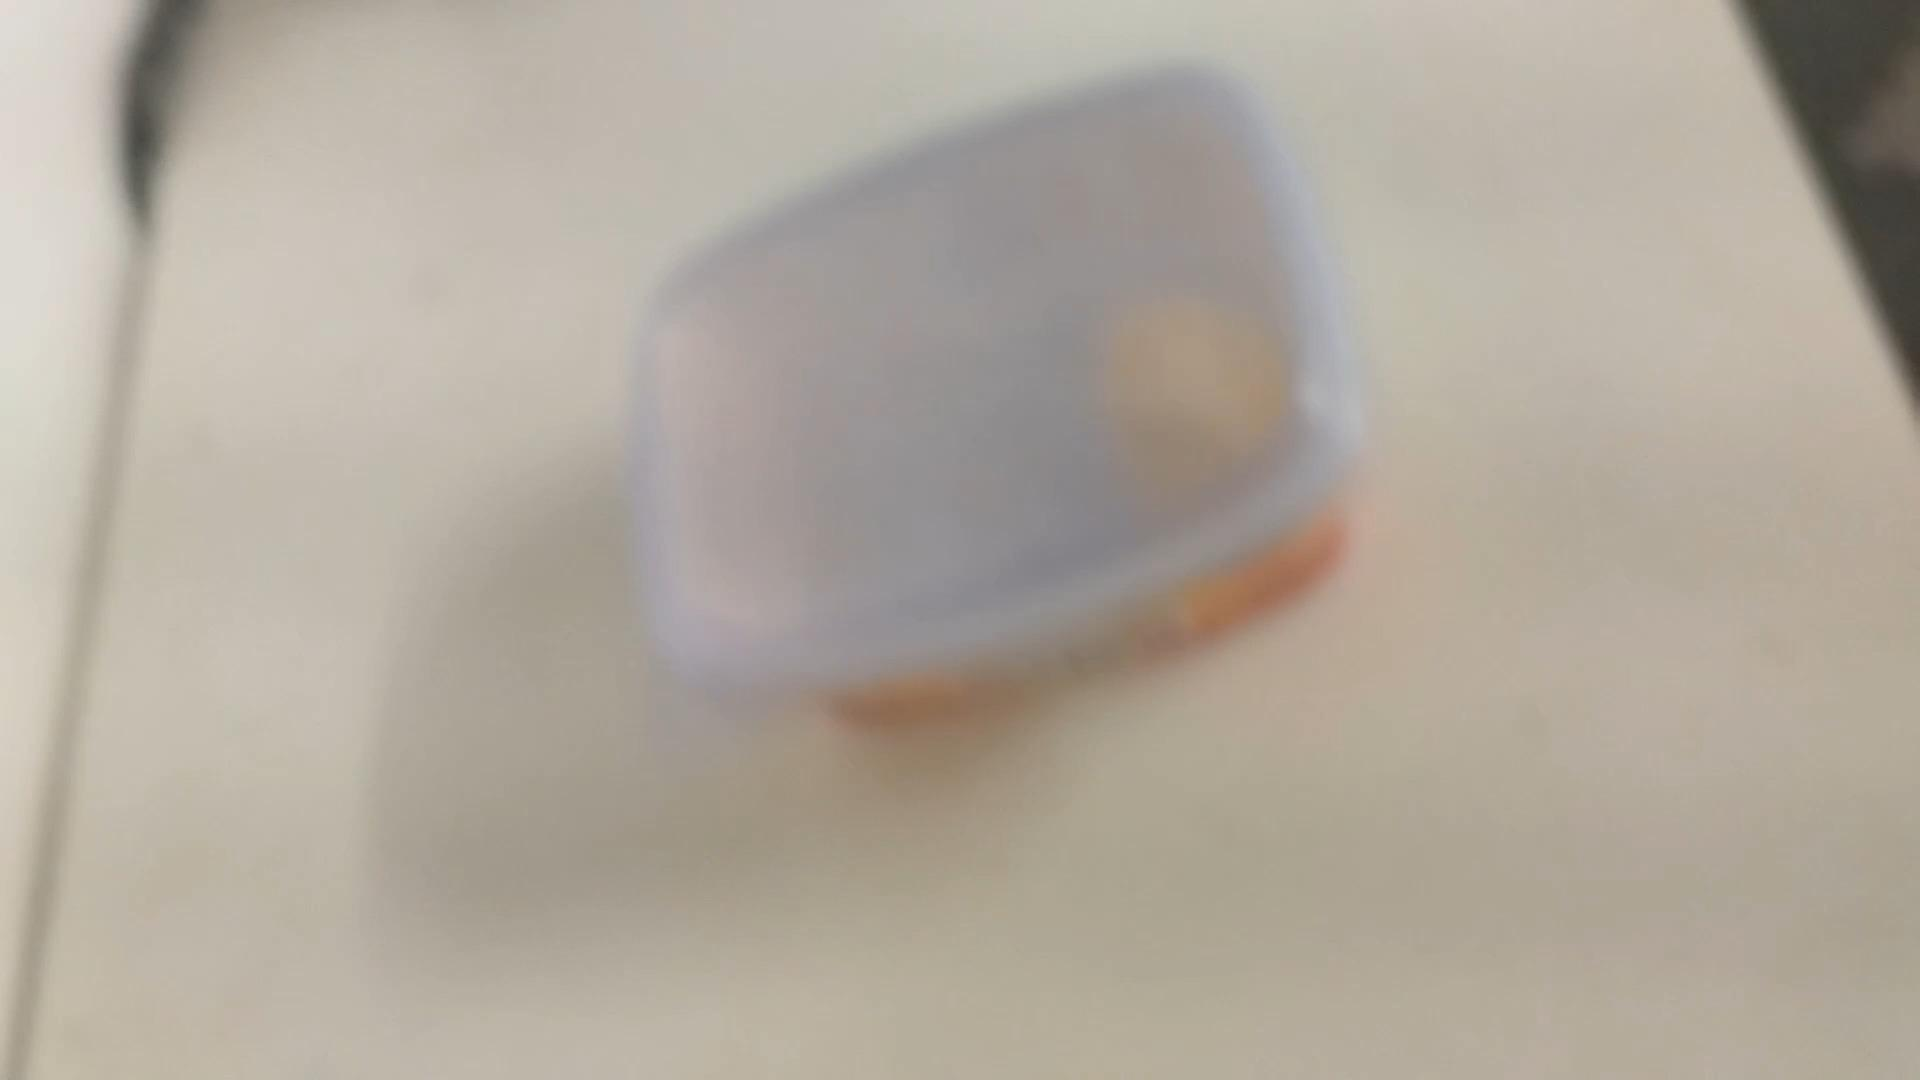butter: (617, 59, 1374, 736)
